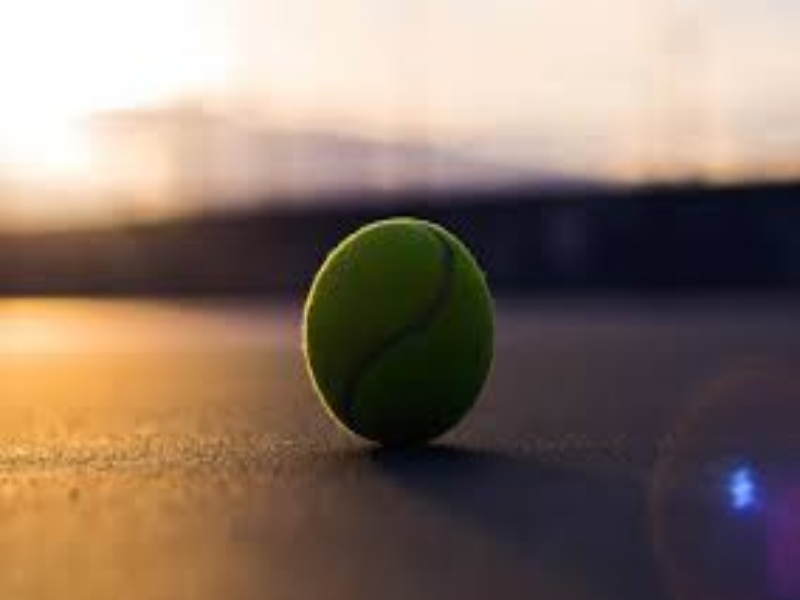tennis ball: (297, 203, 538, 455)
